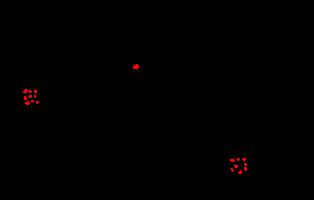Target: (133, 64, 139, 69), (23, 89, 28, 93), (25, 101, 30, 105), (238, 170, 242, 174), (230, 159, 235, 162), (24, 96, 27, 100), (242, 158, 246, 161), (234, 165, 238, 168), (244, 167, 247, 171), (231, 168, 234, 172), (29, 90, 32, 93), (34, 90, 37, 93), (29, 95, 32, 98), (36, 101, 39, 104), (237, 158, 240, 161), (244, 163, 247, 166), (34, 95, 36, 98), (31, 100, 34, 102)
